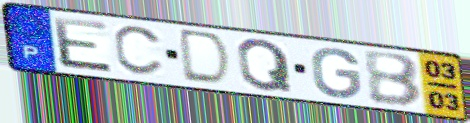B: (360, 50, 424, 109)
C: (111, 25, 167, 78)
D: (179, 27, 235, 88)
E: (50, 15, 117, 76)
G: (309, 46, 364, 101)
Q: (235, 38, 297, 95)
